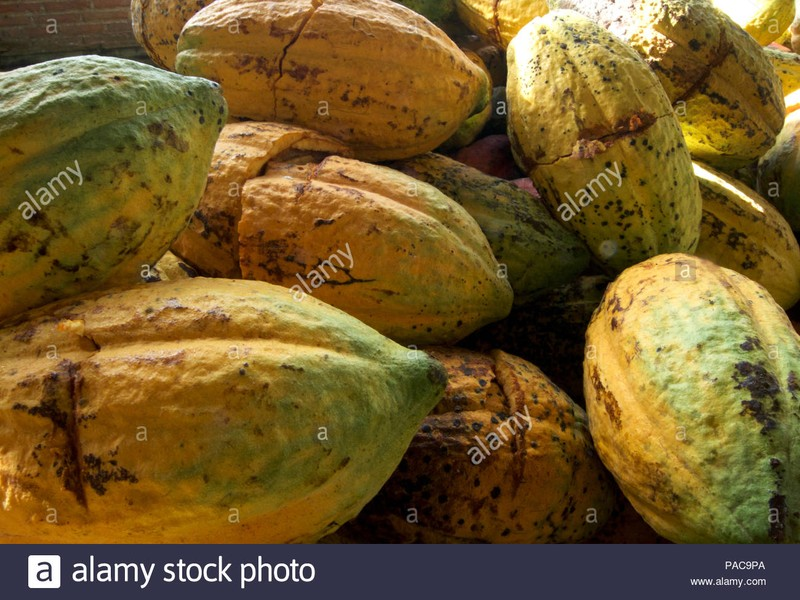Cacaopod: (1, 276, 450, 543), (582, 251, 799, 543), (504, 6, 700, 265), (175, 3, 489, 163)
